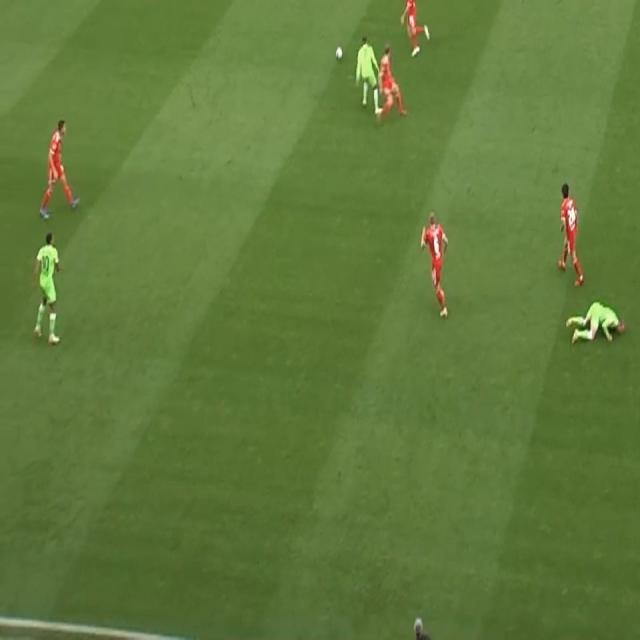ball: (336, 46, 343, 61)
